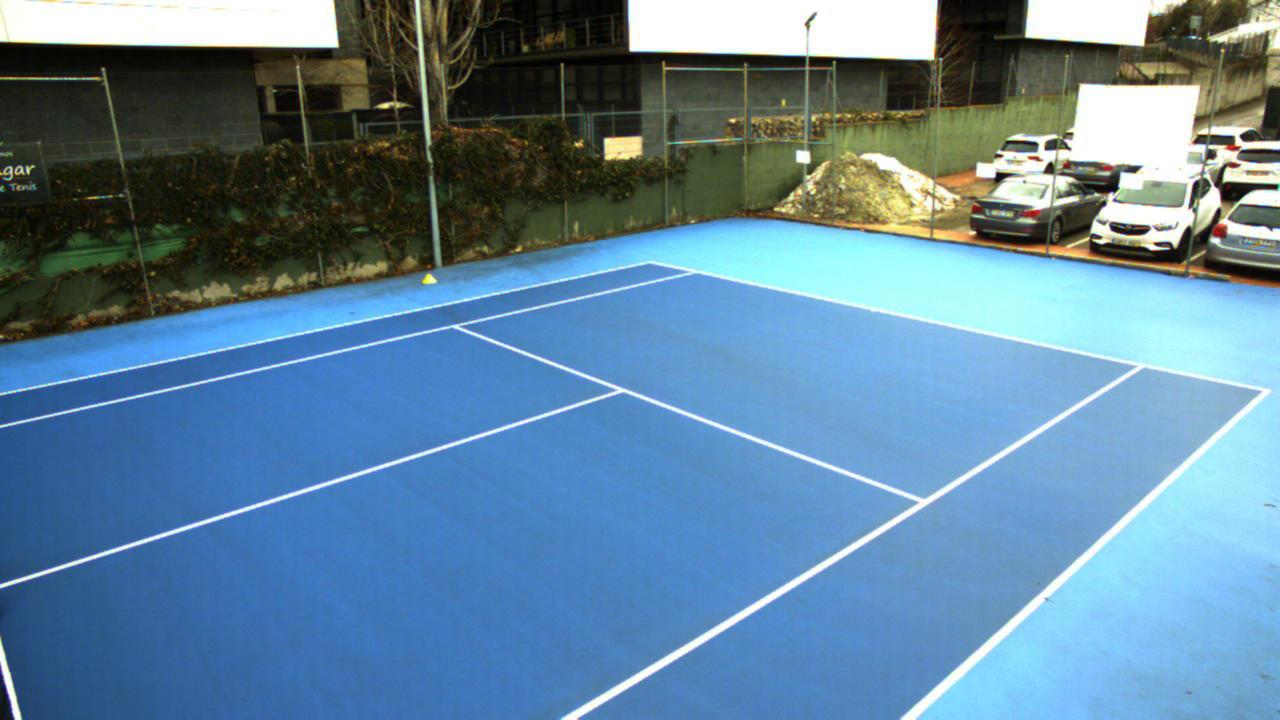cancha_tenis: (0, 271, 1148, 720)
point_f1: (679, 261, 706, 282)
point_f2: (1123, 353, 1153, 379)
point_fc1: (865, 299, 882, 316)
point_i1: (443, 312, 472, 337)
point_i2: (899, 487, 937, 521)
point_ic1: (600, 376, 638, 407)
